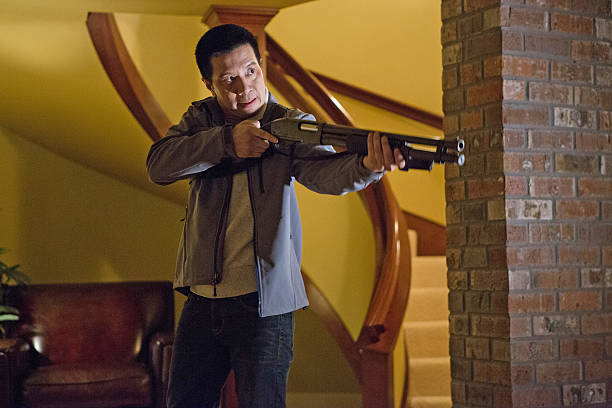shotgun: (269, 113, 471, 178)
